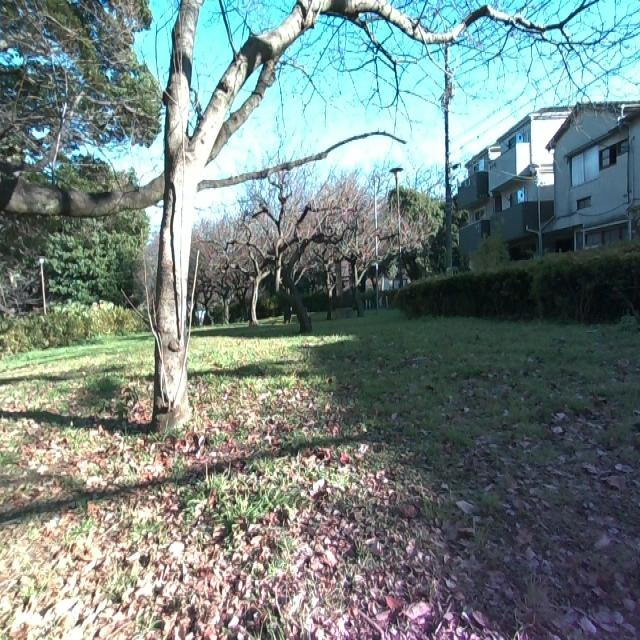bush: (400, 243, 640, 319), (0, 300, 136, 364)
tree: (158, 4, 550, 433), (12, 156, 176, 228), (262, 178, 332, 340), (213, 218, 273, 329), (337, 205, 391, 319)
